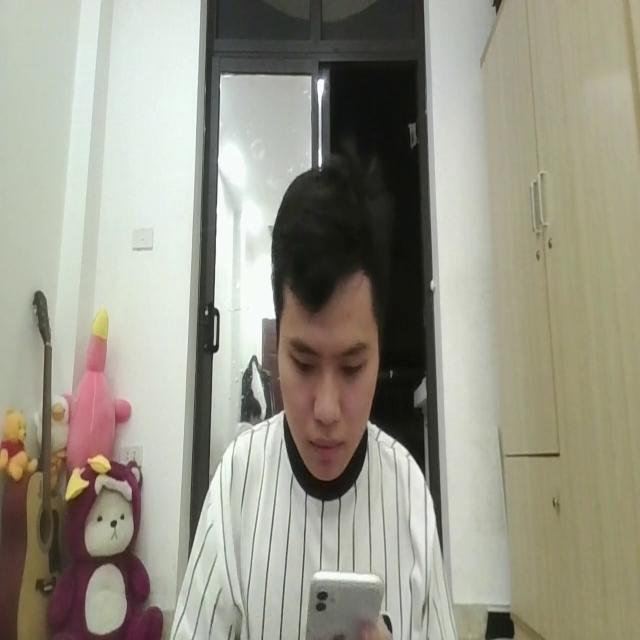phone: (305, 555, 385, 640)
student: (167, 153, 458, 640)
